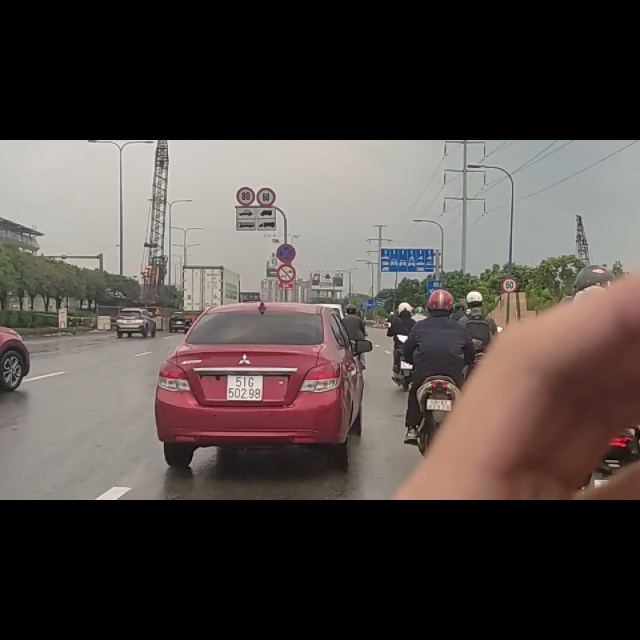bien_chi_dan: (275, 183, 295, 218), (235, 83, 255, 117), (257, 84, 276, 117)
